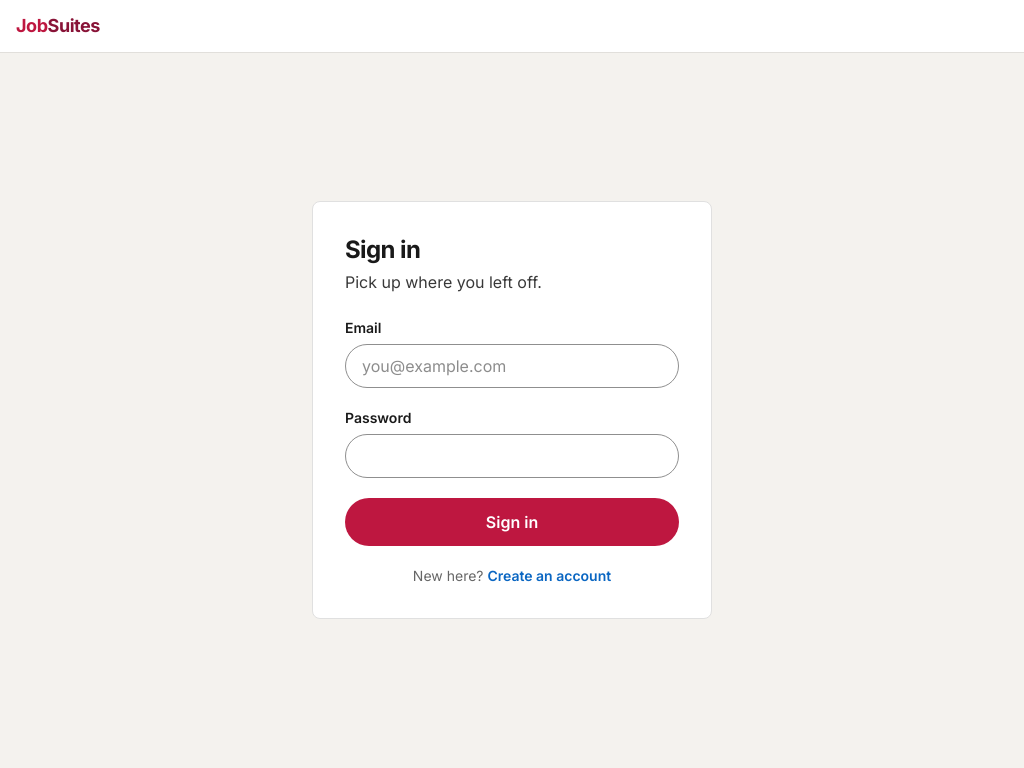
Scenario: LoginPage › surfaces a focusable error summary when the server returns field errors
In the field labelled "Email": coordinates (512, 366) [345,344,679,388], type "nope"
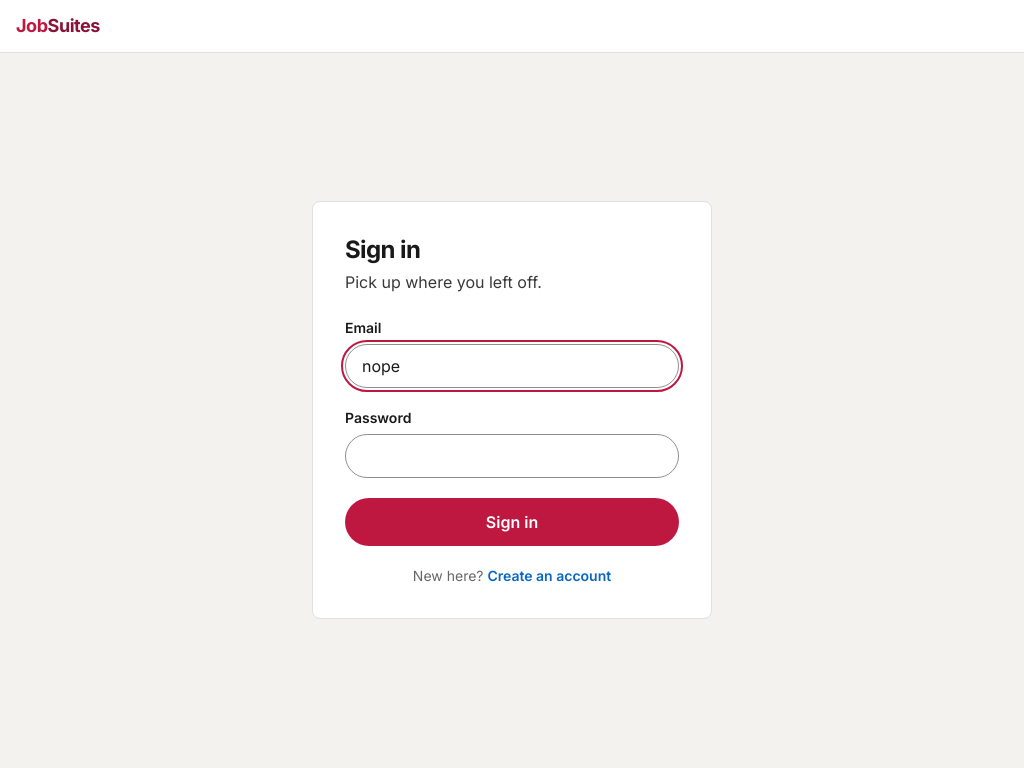
In the password field labelled "Password": coordinates (512, 456) [345,434,679,478], type "whatever12"
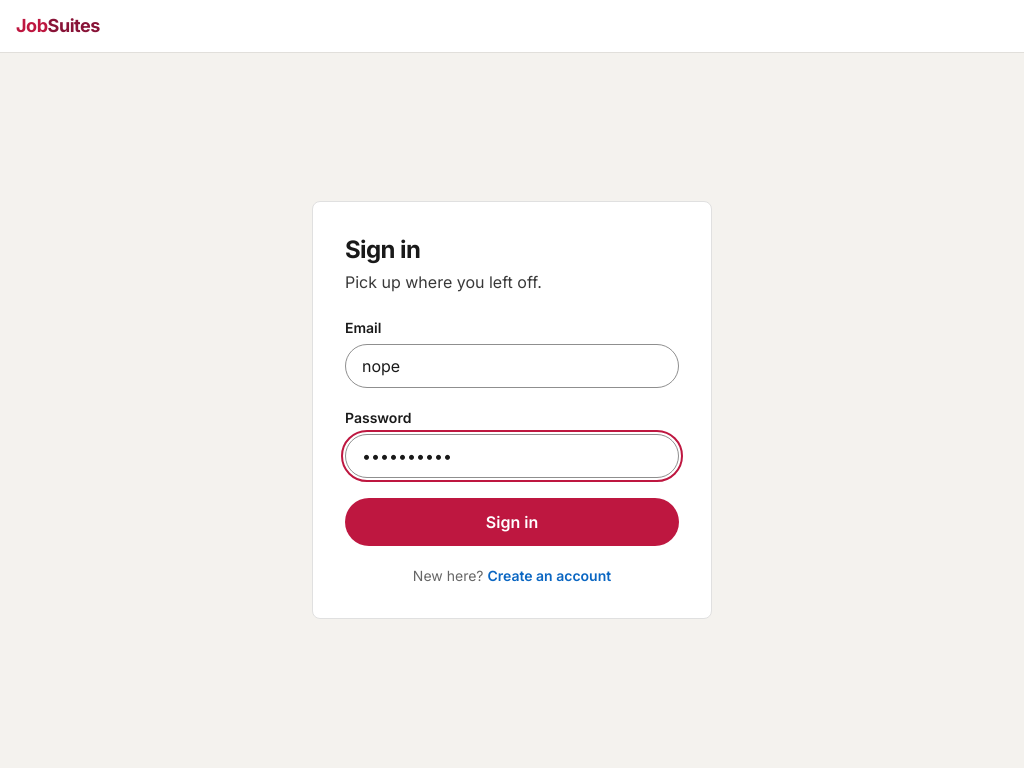
Click the button "Sign in": coordinates (512, 522) [345,498,679,546]
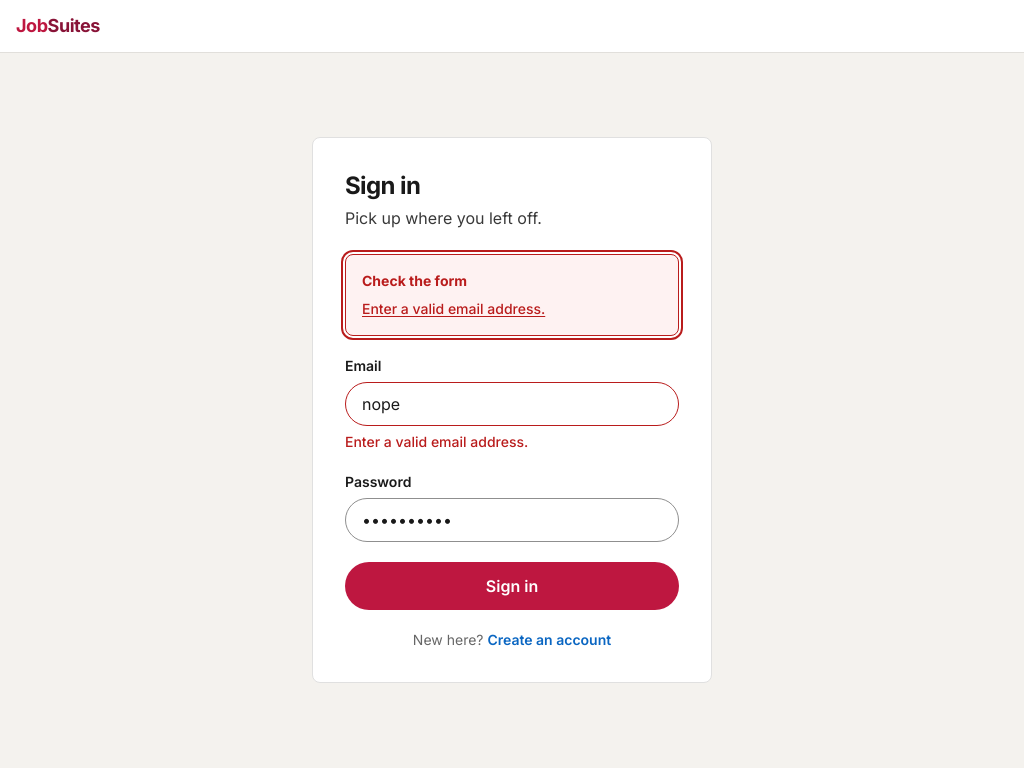
Check: the link "Enter a valid email address." is shown, box [362,300,545,317]
